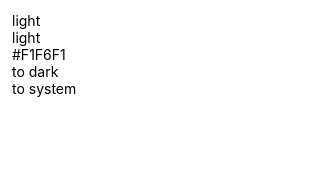
Test: ThemeProvider › setPref switches the palette and persists it per device
The image size is (332, 172).
Click the element with test id "to-dark".
click(35, 72)  # box [12,63,58,80]
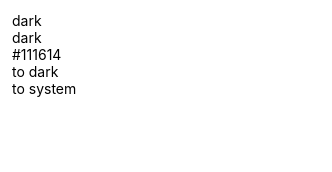
expect the text "dark" is shown: met, box [12,12,42,29]
expect the text with test id "canvas" reads "#111614": met, box [12,46,61,63]
